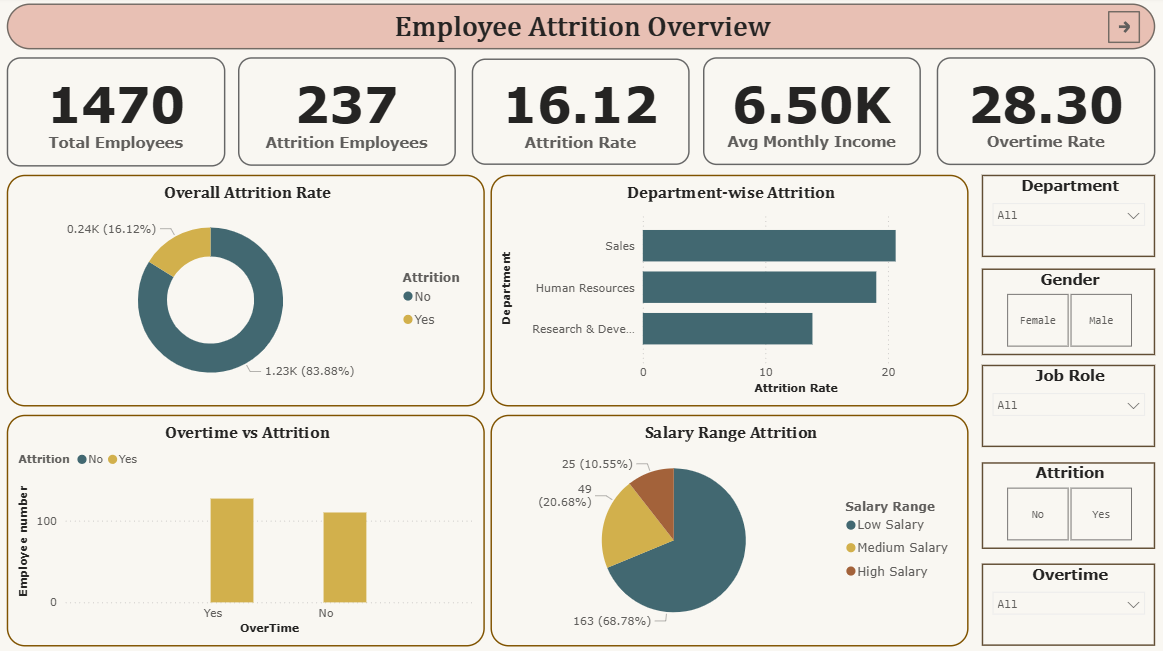

This screenshot's page, from the dashboard's own definition file:
{"tool":"powerbi","page":{"name":"Executive Overview","canvas":[1280,720],"ordinal":0},"visuals":[{"type":"textbox","title":"Employee Attrition Overview","box":[9.8,8.6,1260.7,50],"z":0},{"type":"card","fields":{"Values":["CountNonNull(HR_Employee_Attrition.EmployeeNumber)"]},"box":[9.7,67.6,240.1,120],"z":1000},{"type":"card","fields":{"Values":["Sum(HR_Employee_Attrition.Attrition Count)"]},"box":[263,67.6,238.9,119.4],"z":2000},{"type":"card","fields":{"Values":["HR_Employee_Attrition.Attrition Rate"]},"box":[520,68.8,238.9,117],"z":3000},{"type":"card","fields":{"Values":["Avg(HR_Employee_Attrition.MonthlyIncome)"]},"box":[774.5,67.6,238.9,118.2],"z":4000},{"type":"card","fields":{"Values":["HR_Employee_Attrition.Overtime Rate"]},"box":[1030.3,67.6,240.1,118.2],"z":5000},{"type":"donutChart","title":"Overall Attrition Rate","fields":{"Category":["HR_Employee_Attrition.Attrition"],"Y":["CountNonNull(HR_Employee_Attrition.EmployeeNumber)"]},"box":[9.7,196.6,524.8,254],"z":6000},{"type":"clusteredBarChart","title":"Department-wise Attrition","fields":{"Category":["HR_Employee_Attrition.Department"],"Y":["HR_Employee_Attrition.Attrition Rate"]},"box":[540.5,196.6,524.8,254],"z":7000},{"type":"clusteredColumnChart","title":"Overtime vs Attrition","fields":{"Category":["HR_Employee_Attrition.OverTime"],"Series":["HR_Employee_Attrition.Attrition"],"Y":["Sum(HR_Employee_Attrition.Attrition Count)"]},"box":[9.7,459.7,524.8,254.6],"z":8000},{"type":"pieChart","title":"Salary Range Attrition ","fields":{"Category":["HR_Employee_Attrition.Salary Range"],"Y":["Sum(HR_Employee_Attrition.Attrition Count)"]},"box":[540.5,459.7,524.8,254.6],"z":9000},{"type":"slicer","title":"Department","fields":{"Values":["HR_Employee_Attrition.Department"]},"box":[1079.8,196.6,190.6,90.5],"z":11000},{"type":"slicer","title":"Gender","fields":{"Values":["HR_Employee_Attrition.Gender"]},"box":[1079.8,299.2,190.6,95.3],"z":12000},{"type":"slicer","title":"Overtime","fields":{"Values":["HR_Employee_Attrition.OverTime"]},"box":[1079.8,623.6,190.8,90.5],"z":13000},{"type":"slicer","title":"Job Role","fields":{"Values":["HR_Employee_Attrition.JobRole"]},"box":[1079.8,405.4,190.6,90.5],"z":14000},{"type":"slicer","title":"Attrition","fields":{"Values":["HR_Employee_Attrition.Attrition"]},"box":[1079.8,511.5,190.6,95.3],"z":15000},{"type":"actionButton","box":[1219.2,15.9,35.5,35.5],"z":17000}]}

Visuals, with their boxes in screenshot pixels (x1, y1, x2, y2), scaled from the page's 1280x720 canvas onto the 1163x651 screenshot:
"Employee Attrition Overview" textbox: Rect(9, 8, 1154, 53)
card - CountNonNull(HR_Employee_Attrition.EmployeeNumber): Rect(9, 61, 227, 170)
card - Sum(HR_Employee_Attrition.Attrition Count): Rect(239, 61, 456, 169)
card - HR_Employee_Attrition.Attrition Rate: Rect(472, 62, 690, 168)
card - Avg(HR_Employee_Attrition.MonthlyIncome): Rect(704, 61, 921, 168)
card - HR_Employee_Attrition.Overtime Rate: Rect(936, 61, 1154, 168)
"Overall Attrition Rate" donutChart: Rect(9, 178, 486, 407)
"Department-wise Attrition" clusteredBarChart: Rect(491, 178, 968, 407)
"Overtime vs Attrition" clusteredColumnChart: Rect(9, 416, 486, 646)
"Salary Range Attrition " pieChart: Rect(491, 416, 968, 646)
"Department" slicer: Rect(981, 178, 1154, 260)
"Gender" slicer: Rect(981, 271, 1154, 357)
"Overtime" slicer: Rect(981, 564, 1154, 646)
"Job Role" slicer: Rect(981, 367, 1154, 448)
"Attrition" slicer: Rect(981, 462, 1154, 549)
actionButton: Rect(1108, 14, 1140, 46)
